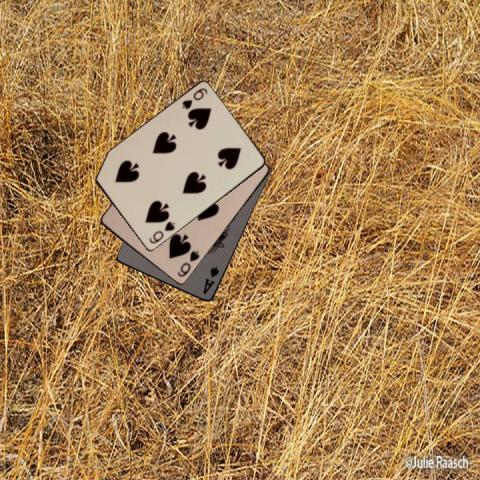6s: (174, 248, 201, 279), (178, 85, 208, 112), (146, 219, 177, 245)
As: (200, 263, 221, 296)
